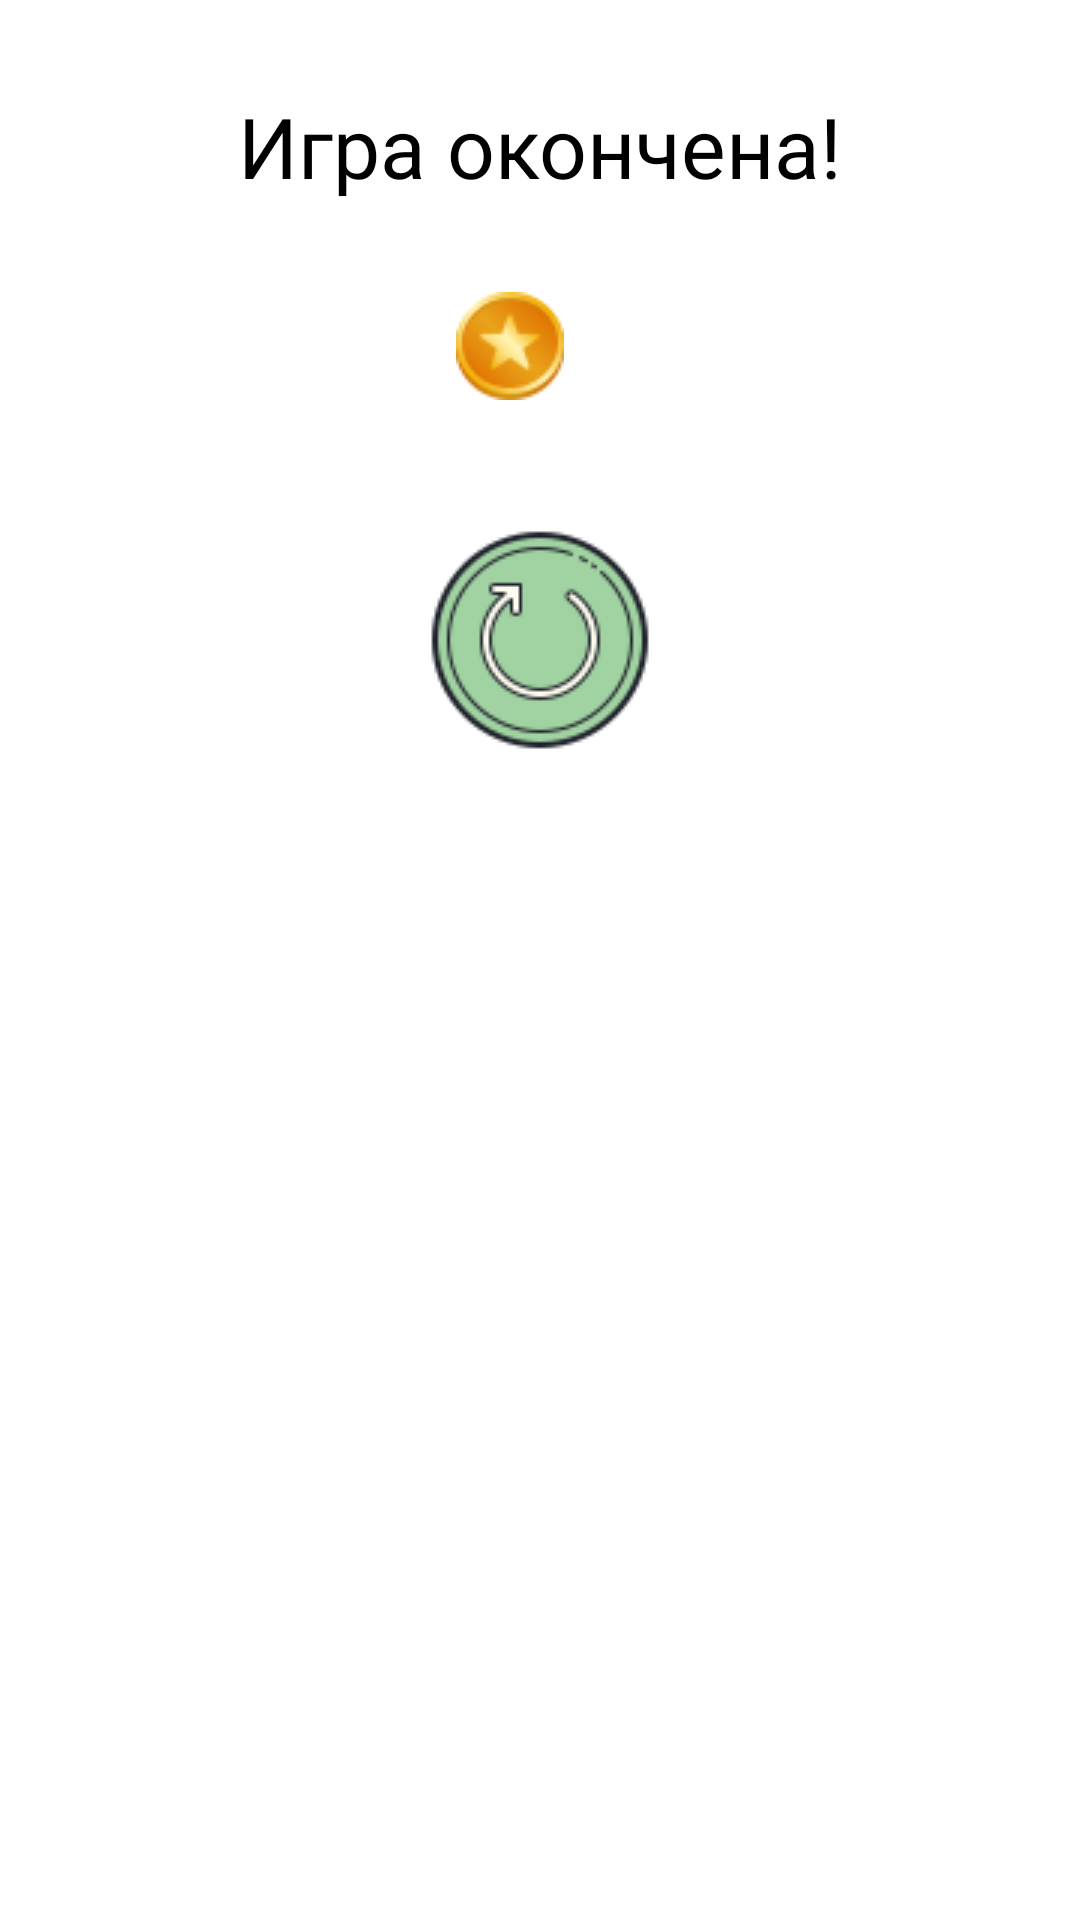

Where icons sit on this 1080w x 1920h app screen, as (x1, y1, x2, y2):
coin: (456, 292, 564, 400)
restart: (431, 531, 649, 749)
